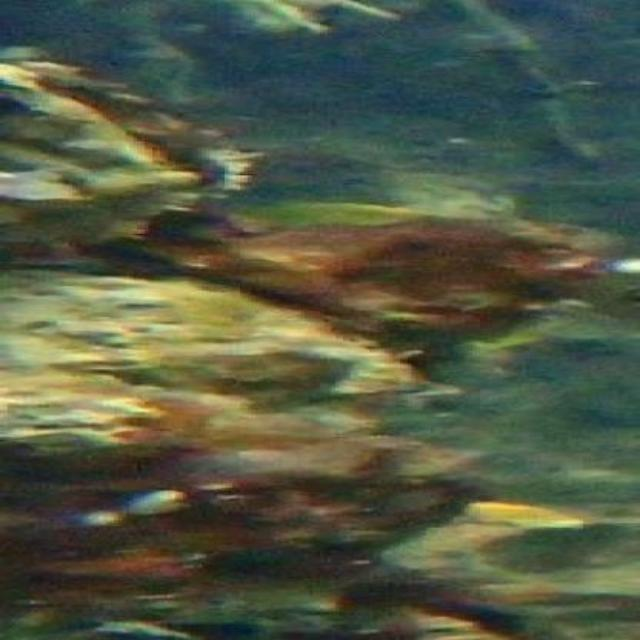Oyster-Closed: (0, 255, 420, 453), (181, 196, 600, 344)
Oyster-Open: (0, 48, 257, 242)
